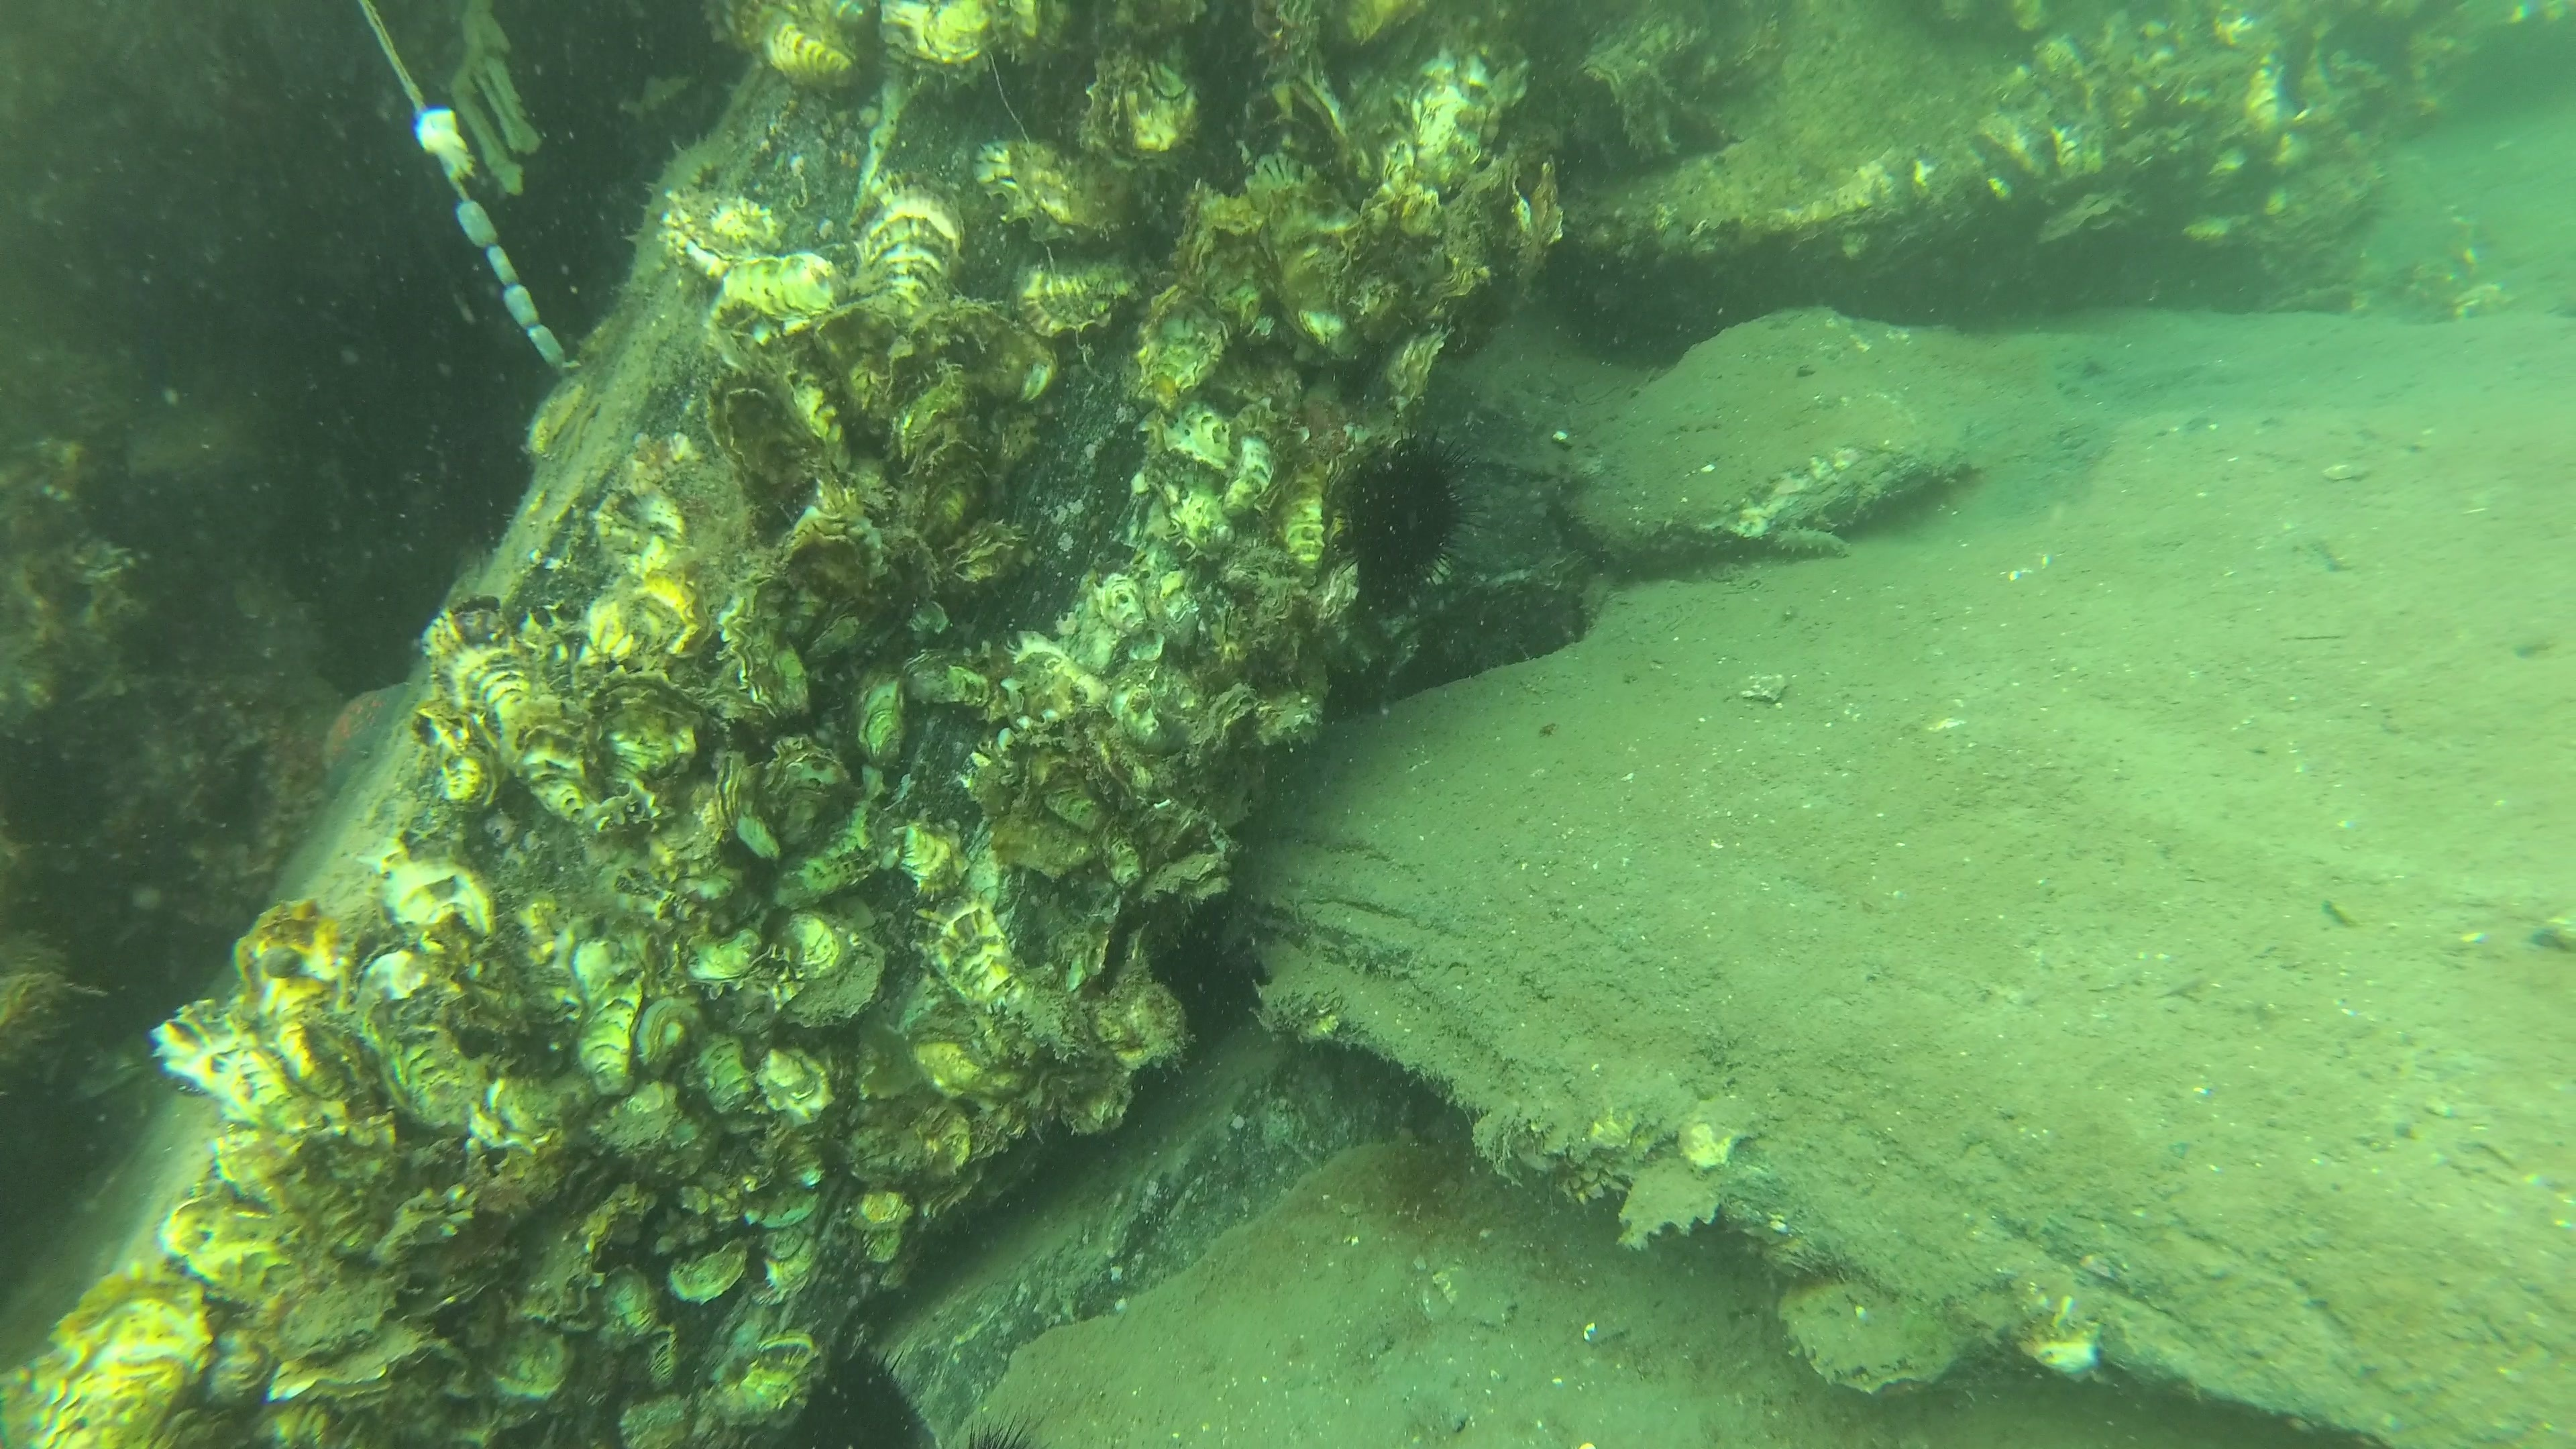echinus: (1357, 449, 1468, 596), (433, 426, 547, 559), (809, 1353, 922, 1449), (954, 1422, 1040, 1449)
holothurian: (625, 113, 729, 294), (1767, 524, 1854, 559)
starfish: (320, 679, 425, 794)
